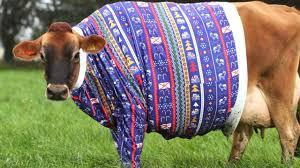cow: (12, 0, 300, 168)
